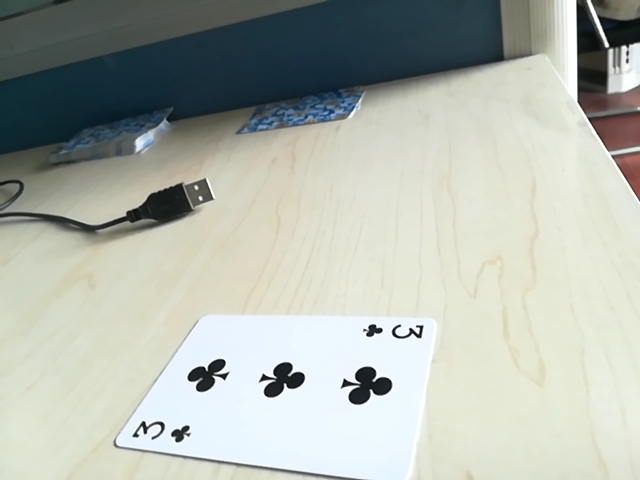mh 3: (127, 417, 189, 451), (361, 317, 426, 346)
